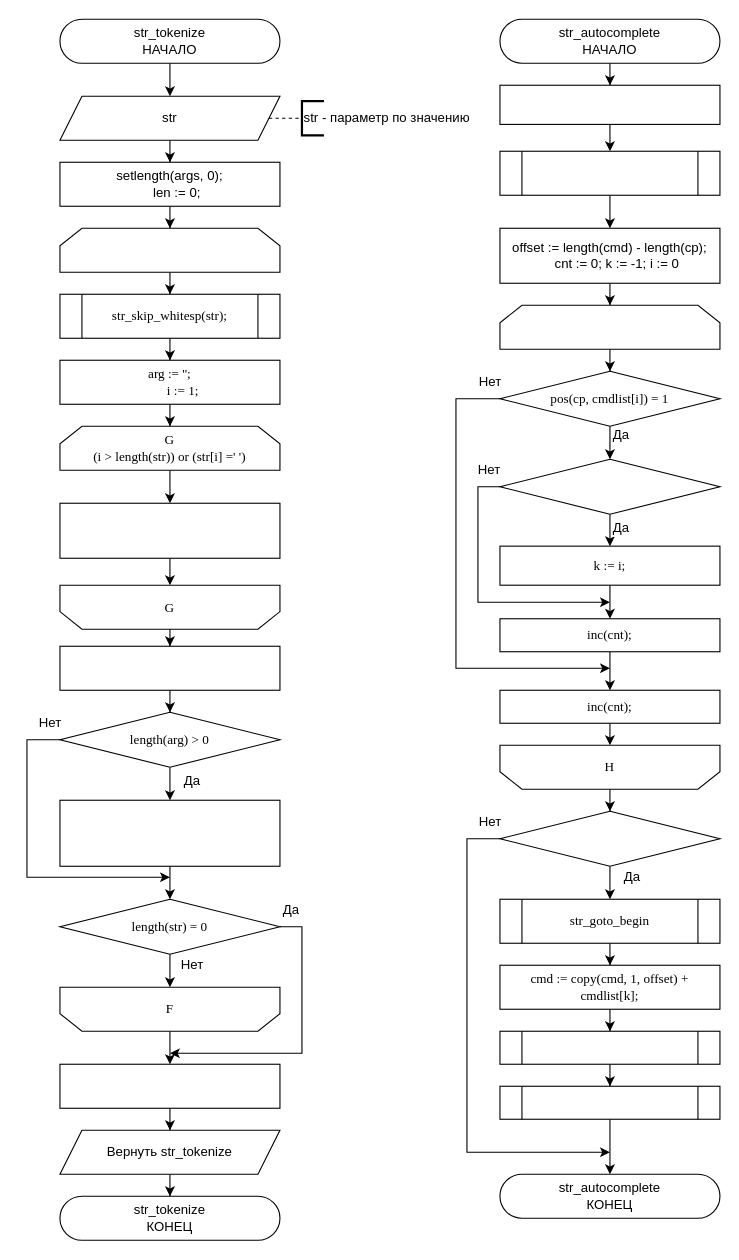
The diagram is 739 pixels wide and 1260 high, and some of its shapes have lost their labels. The shapes that lost their labels are listed below. From the top down, each one's box as (x1, y1, x2, y2) in pixels, then its label:
(499, 84, 720, 124): cp := cmd;
(499, 150, 720, 195): str_skip_whitesp
(59, 227, 280, 272): F length(str) = 0
(499, 304, 720, 349): H i > cmdlist_size - 1
(499, 458, 720, 514): k = -1
(59, 502, 280, 558): arg := arg + str[i]; inc(i);
(59, 645, 280, 690): str := copy(str, i, length(str));
(59, 799, 280, 866): setlength(args, len + 1); args[len] := arg; inc(len);
(499, 810, 720, 866): cnt = 1
(499, 1030, 720, 1064): str_update(0, 0, '');
(59, 1063, 280, 1108): str_tokenize := args;
(499, 1085, 720, 1119): str_goto_end;
